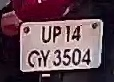0: (71, 46, 82, 66)
1: (64, 23, 72, 43)
3: (50, 47, 63, 68)
4: (71, 24, 83, 44), (81, 46, 92, 67)
5: (61, 47, 71, 68)
G: (26, 48, 42, 68)
P: (52, 24, 63, 47)
U: (41, 23, 53, 44)
Y: (39, 47, 51, 67)
